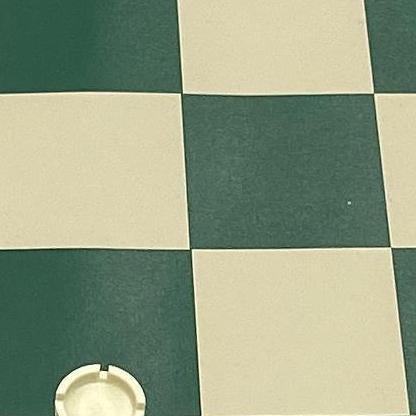white-rook: (22, 361, 160, 416)
